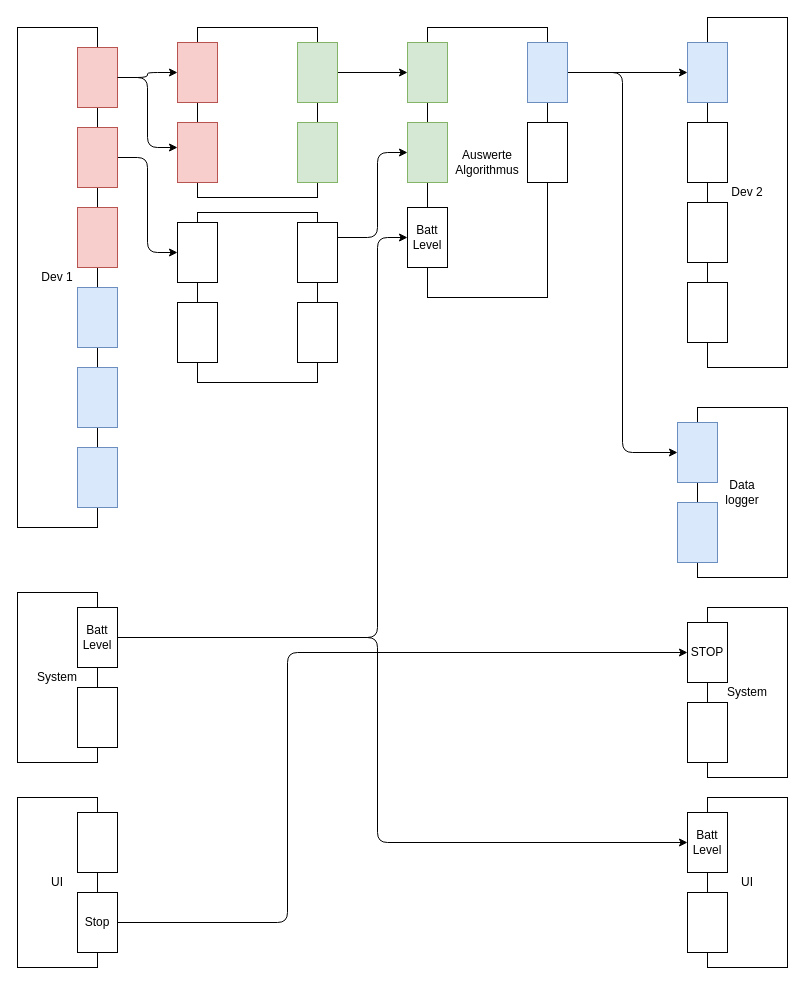
Image size: 805x985. Some labels were removed from this diagram. The centre of each missing label's shape, as x and y in pixels:
"Kanal 1" goes at [97,77].
"Kanal 2" goes at [97,157].
